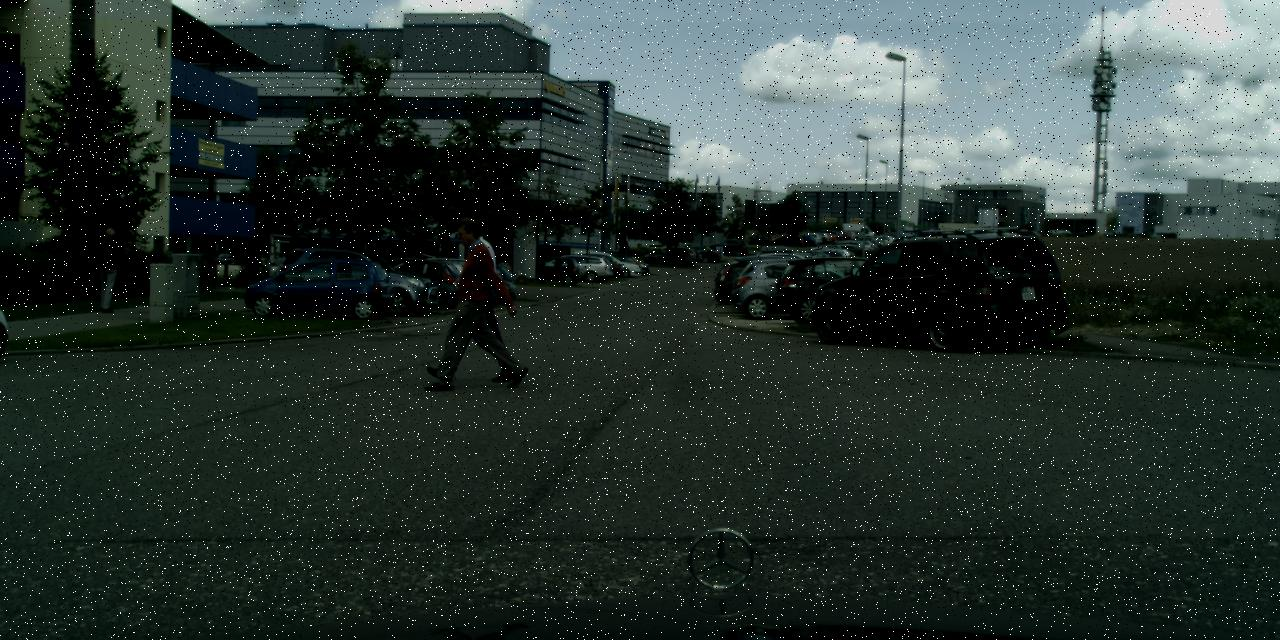ped: (439, 217, 508, 387), (441, 217, 507, 377), (91, 227, 126, 312)
